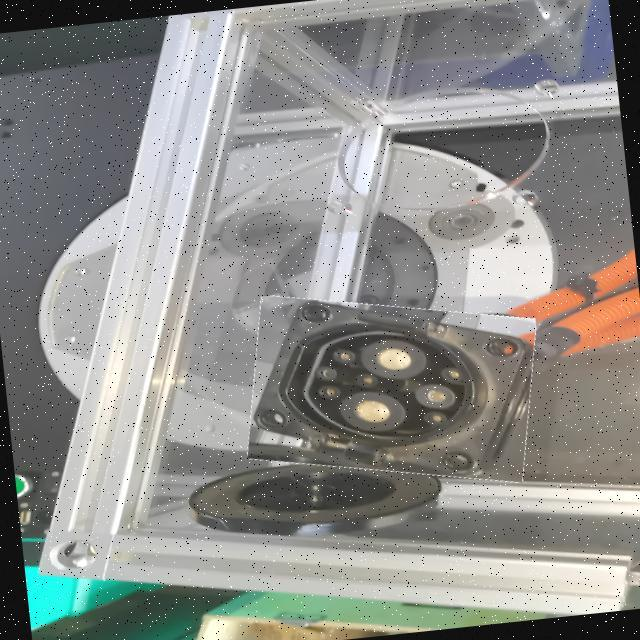GB-T: (266, 320, 523, 473)
